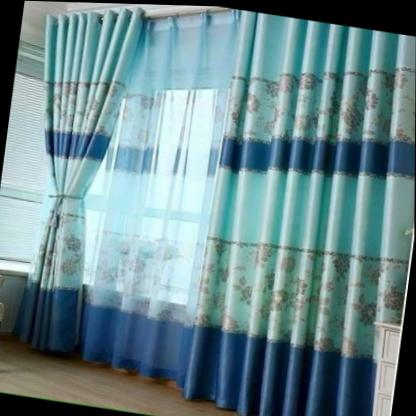Curtains: (178, 8, 416, 416), (14, 6, 145, 356)
